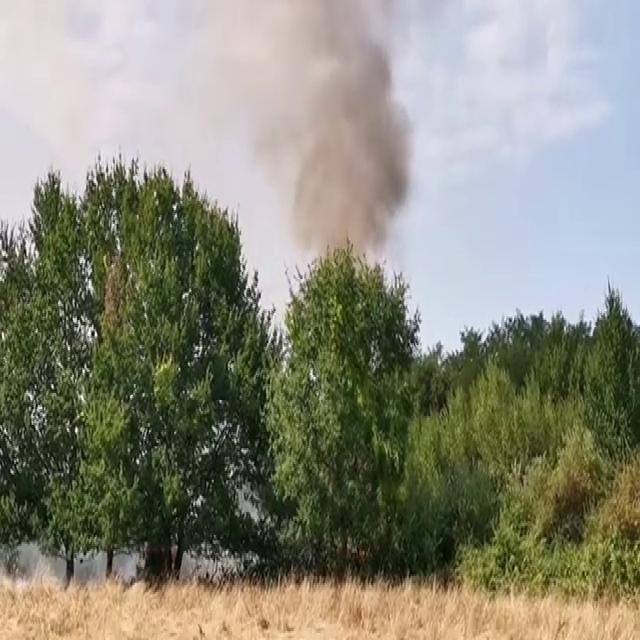Smoke: (253, 0, 419, 295)
